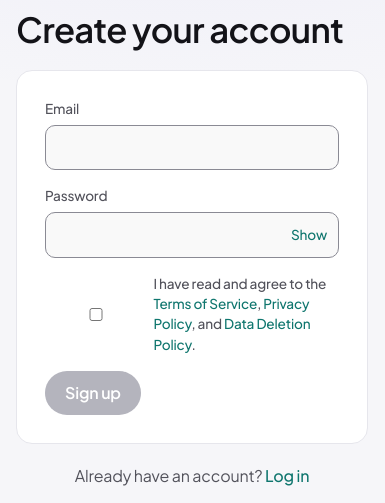
Test: SignupPage › keeps the submit button disabled until the terms checkbox is checked
Type "new@example.com" into the field labelled "Email" at (192, 148), box [45,125,339,170]
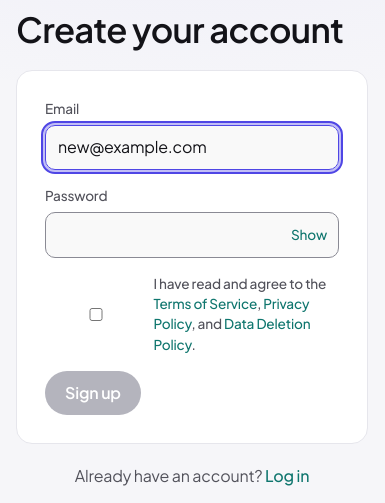
Type "supersecret123" into the password field labelled "Password" at (192, 235), box [45,212,339,258]
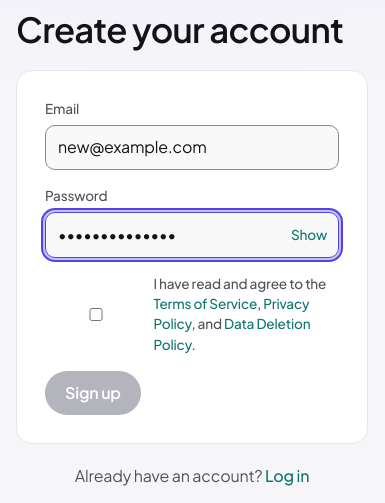
Check: the button "Sign up" is disabled, box [45,371,141,415]
Click the checkbox at (96, 314), box [45,308,147,321]
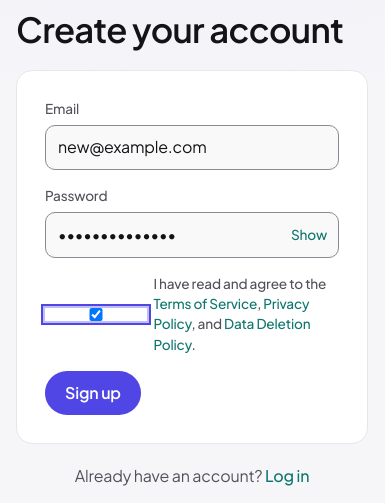
Check: the button "Sign up" is enabled, box [45,371,141,415]
